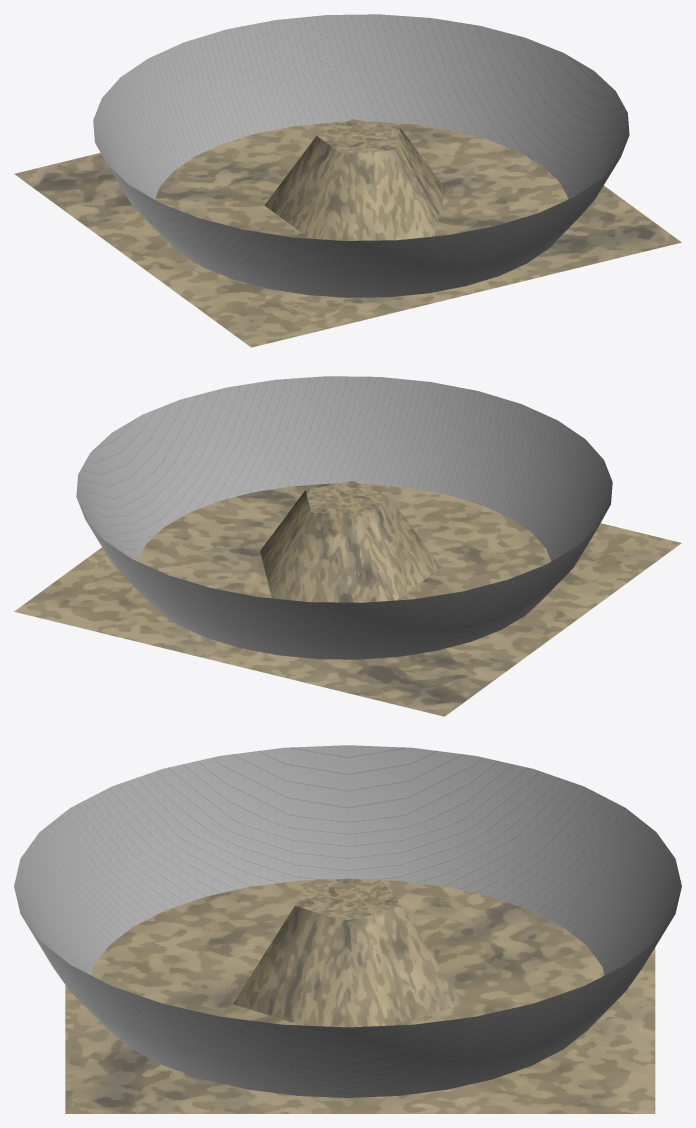
File: stadium.FBX
3 renders of one model, top to bottom at view 1: azimuth 30°, elevation 25°; view 2: azimuth 150°, elevation 25°; view 3: azimuth 270°, elevation 25°, orthographic. The views are drawn at different scales.
Parts seen in each view (by area): view 1: Sphere001, Plane001, Cone001; view 2: Sphere001, Plane001, Cone001; view 3: Sphere001, Plane001, Cone001.
Boxes of the visible parts, bbox=[...] form: Sphere001: bbox=[93, 14, 629, 297]; Plane001: bbox=[14, 121, 681, 347]; Cone001: bbox=[264, 119, 445, 240]; Sphere001: bbox=[76, 376, 612, 659]; Plane001: bbox=[14, 483, 681, 716]; Cone001: bbox=[260, 481, 441, 602]; Sphere001: bbox=[14, 745, 681, 1097]; Plane001: bbox=[65, 878, 655, 1113]; Cone001: bbox=[233, 879, 462, 1027].
Bounding box in the file's own units: 844 × 148 × 844.
2 materials, 2 textured.
